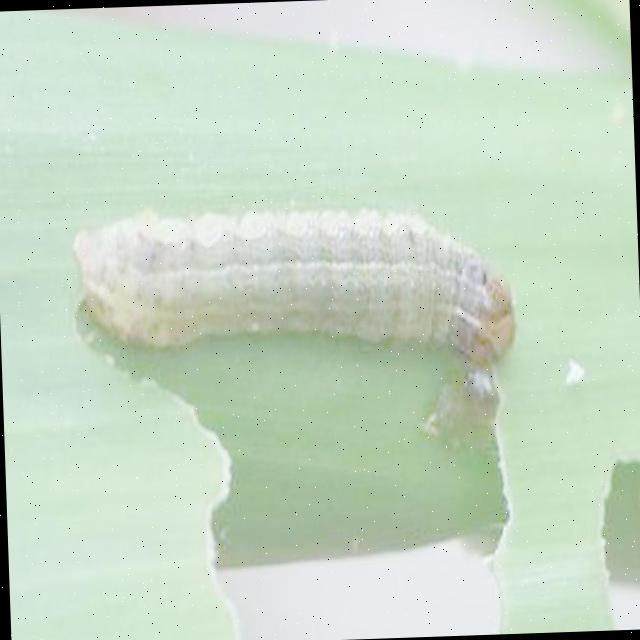worm: (71, 196, 519, 385)
